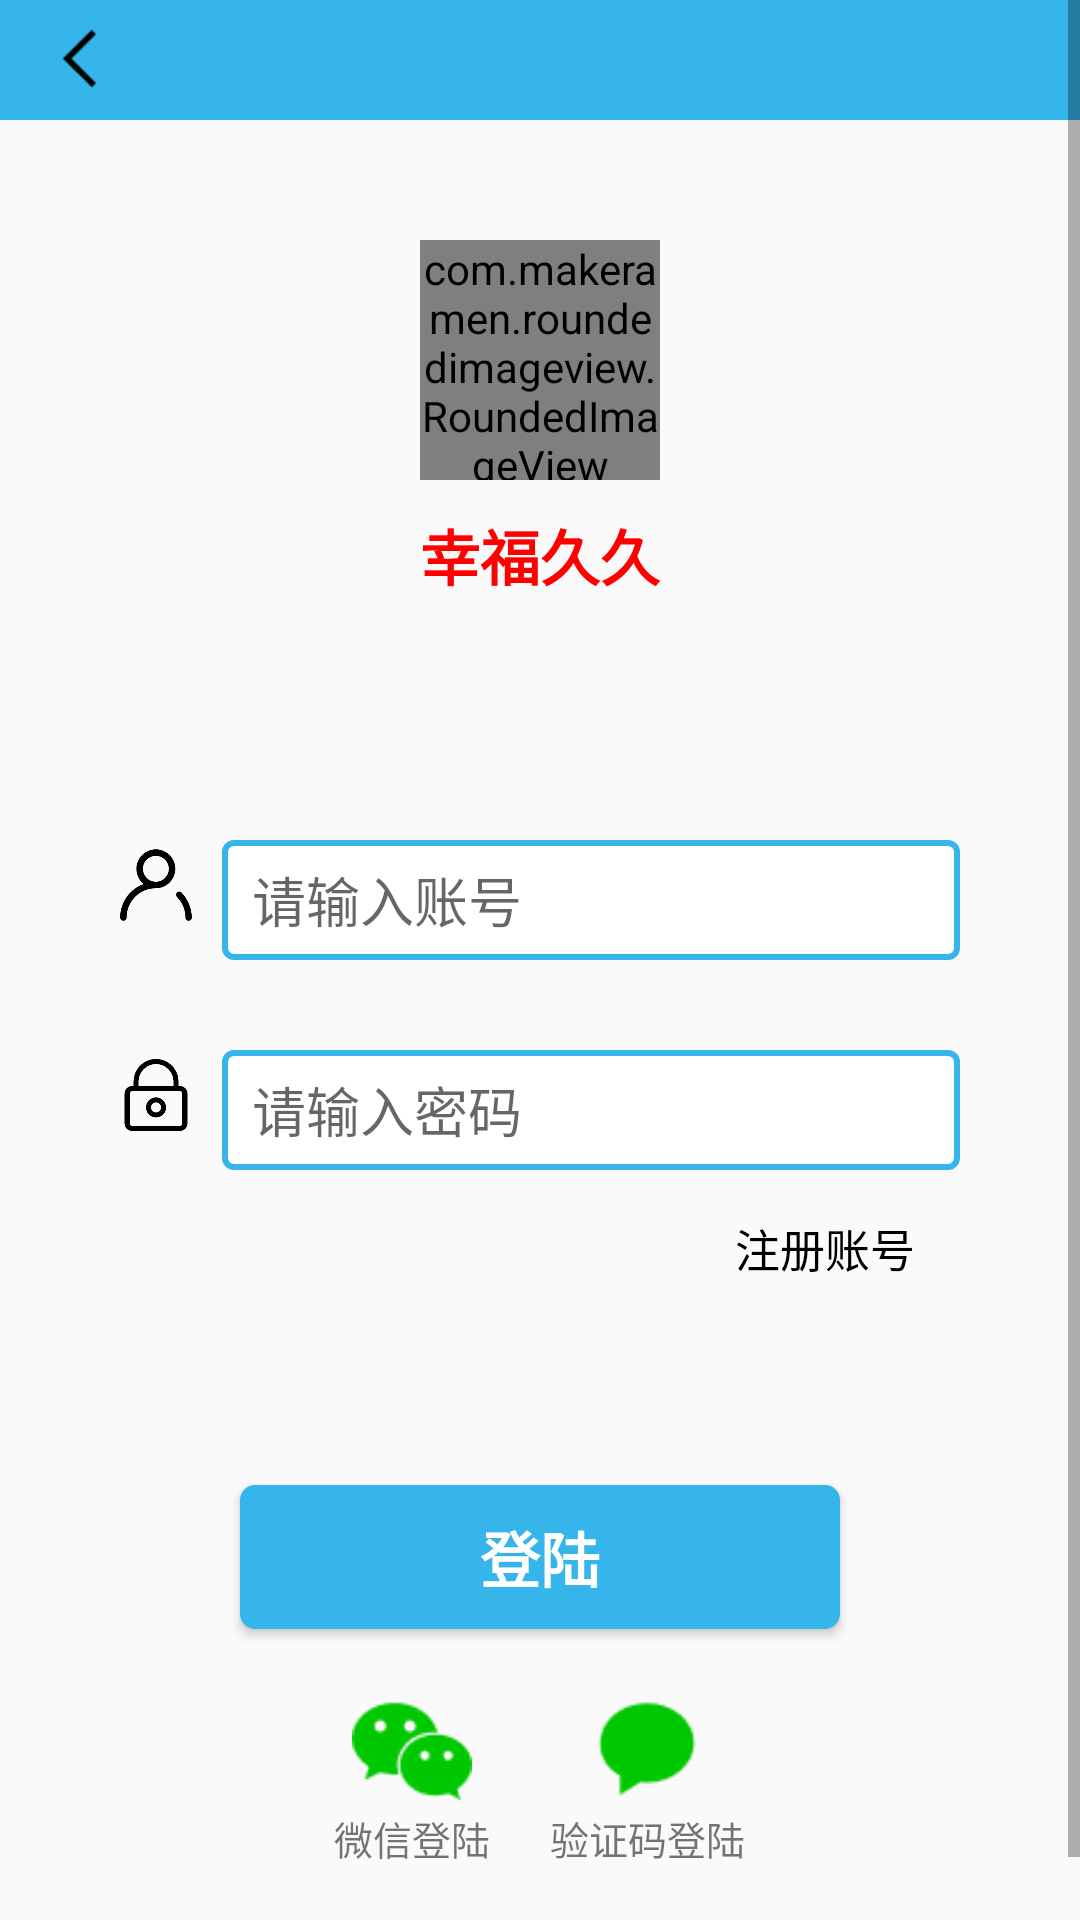

Named icons in this screenshot (1080×1920) and their centers, point (x, y):
mine iv password: point (156, 1095)
mine iv username: point (156, 885)
mine leftarrow: point (79, 58)
